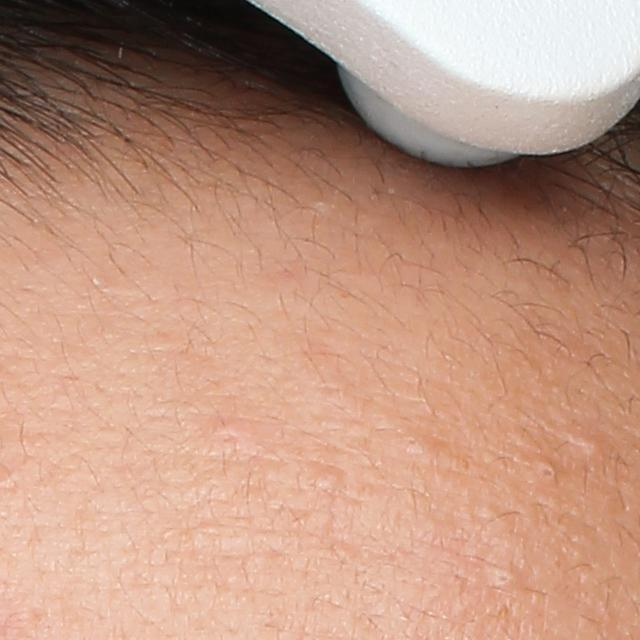comedo: (576, 435, 608, 456), (541, 463, 558, 479)
